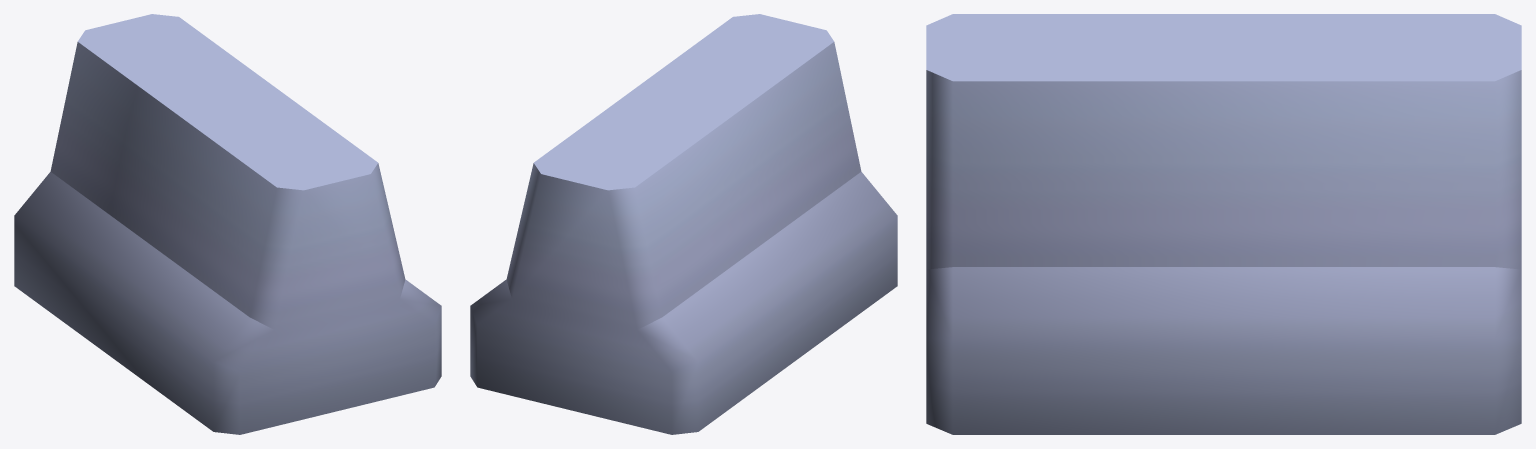
Rendered from barrier.glb.
The picture shows the model from 3 angles, left to right: view 1: azimuth 30°, elevation 25°; view 2: azimuth 150°, elevation 25°; view 3: azimuth 270°, elevation 25°; orthographic projection. The views are drawn at different scales.
Visible parts, largest first — view 1: construction-barrier; view 2: construction-barrier; view 3: construction-barrier.
Boxes of the visible parts, x1,y1,x2,y2 form: construction-barrier: [14, 14, 441, 434]; construction-barrier: [470, 14, 897, 434]; construction-barrier: [926, 14, 1521, 434].
Bounding box in the file's own units: 0.1355 × 0.13 × 0.225.
1 material, 1 textured.
